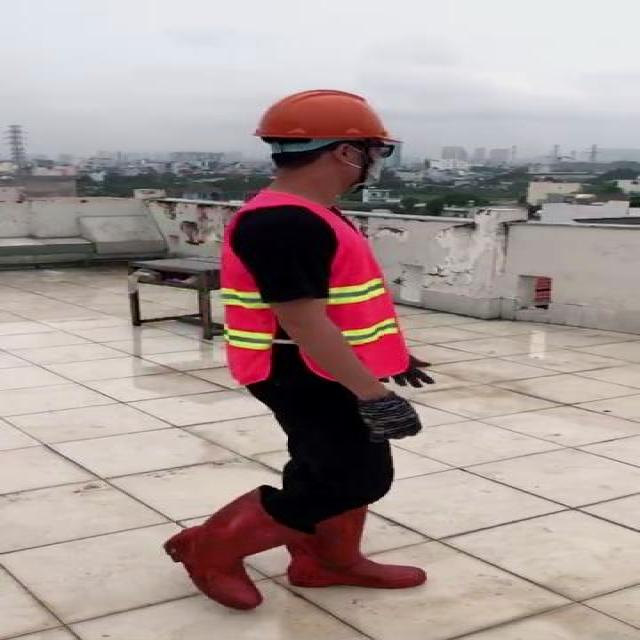boots: (163, 487, 313, 612), (283, 500, 430, 588), (347, 395, 425, 442)
head_helmet: (248, 85, 392, 147)
person: (155, 86, 439, 613)
vest: (222, 188, 409, 382)
